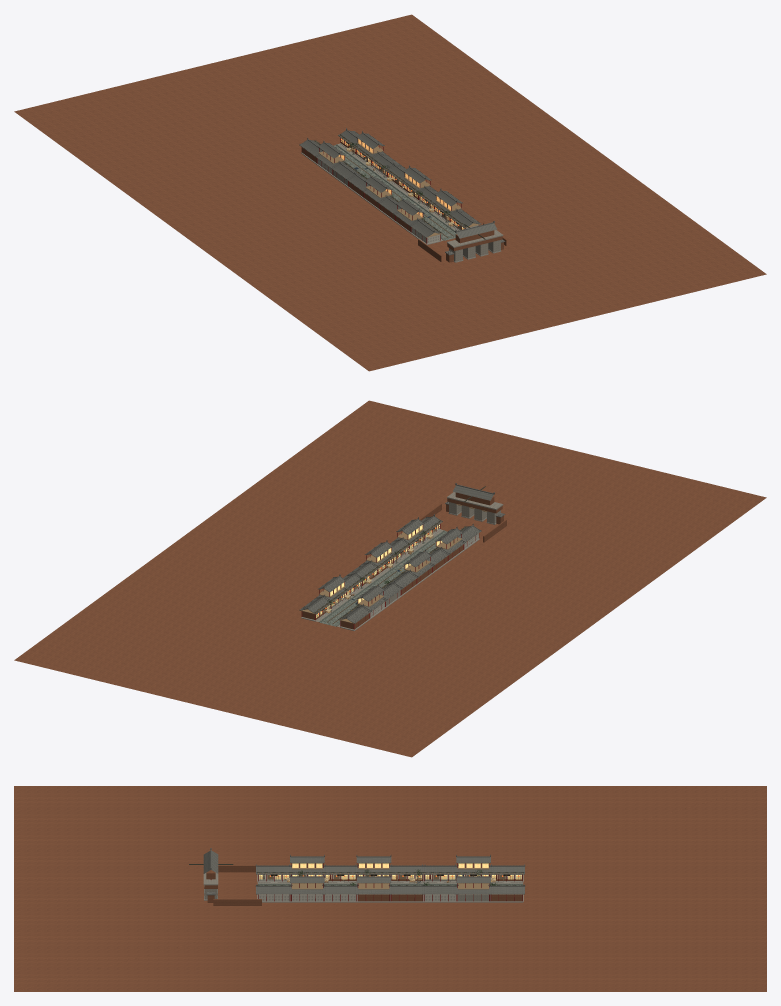
File: changan_street_01.gltf
3 renders of one model, top to bottom at view 1: azimuth 30°, elevation 25°; view 2: azimuth 150°, elevation 25°; view 3: azimuth 270°, elevation 25°, orthographic. The views are drawn at different scales.
Visible parts, largest first — view 1: Surface, CityGate, dwelling_06, teahouse_01, smithy_04, brewery_06, persian_01, carpenter_04; view 2: Surface, CityGate, teahouse_01, smithy_04, dwelling_06, persian_01, brewery_06, carpenter_04; view 3: Surface, CityGate, carpenter_04, brewery_06, persian_01, smithy_04, dwelling_06, teahouse_01, book_00, dwelling_03, bakery_02, incense_05 (+6 smaller).
Boxes of the visible parts, x1=… form: Surface: x1=14, y1=14, x2=766, y2=371; CityGate: x1=418, y1=221, x2=506, y2=262; dwelling_06: x1=393, y1=198, x2=426, y2=233; teahouse_01: x1=315, y1=140, x2=348, y2=175; smithy_04: x1=362, y1=175, x2=395, y2=210; brewery_06: x1=432, y1=188, x2=465, y2=222; persian_01: x1=353, y1=131, x2=387, y2=165; carpenter_04: x1=401, y1=165, x2=434, y2=200; Surface: x1=14, y1=400, x2=766, y2=757; CityGate: x1=419, y1=483, x2=506, y2=542; teahouse_01: x1=354, y1=584, x2=387, y2=619; smithy_04: x1=401, y1=549, x2=434, y2=584; dwelling_06: x1=432, y1=526, x2=465, y2=561; persian_01: x1=315, y1=574, x2=348, y2=609; brewery_06: x1=393, y1=517, x2=427, y2=548; carpenter_04: x1=362, y1=540, x2=395, y2=575; Surface: x1=14, y1=786, x2=766, y2=991; CityGate: x1=189, y1=848, x2=261, y2=905; carpenter_04: x1=355, y1=875, x2=392, y2=902; brewery_06: x1=289, y1=874, x2=325, y2=902; persian_01: x1=455, y1=874, x2=491, y2=902; smithy_04: x1=355, y1=855, x2=392, y2=876; dwelling_06: x1=289, y1=854, x2=325, y2=876; teahouse_01: x1=455, y1=854, x2=491, y2=876; book_00: x1=488, y1=884, x2=525, y2=902; dwelling_03: x1=388, y1=884, x2=425, y2=902; bakery_02: x1=422, y1=884, x2=458, y2=902; incense_05: x1=322, y1=884, x2=358, y2=902.
Size of the model in its own units: 220 by 15.39 by 340.
Materials: 31 (31 with a texture image).
